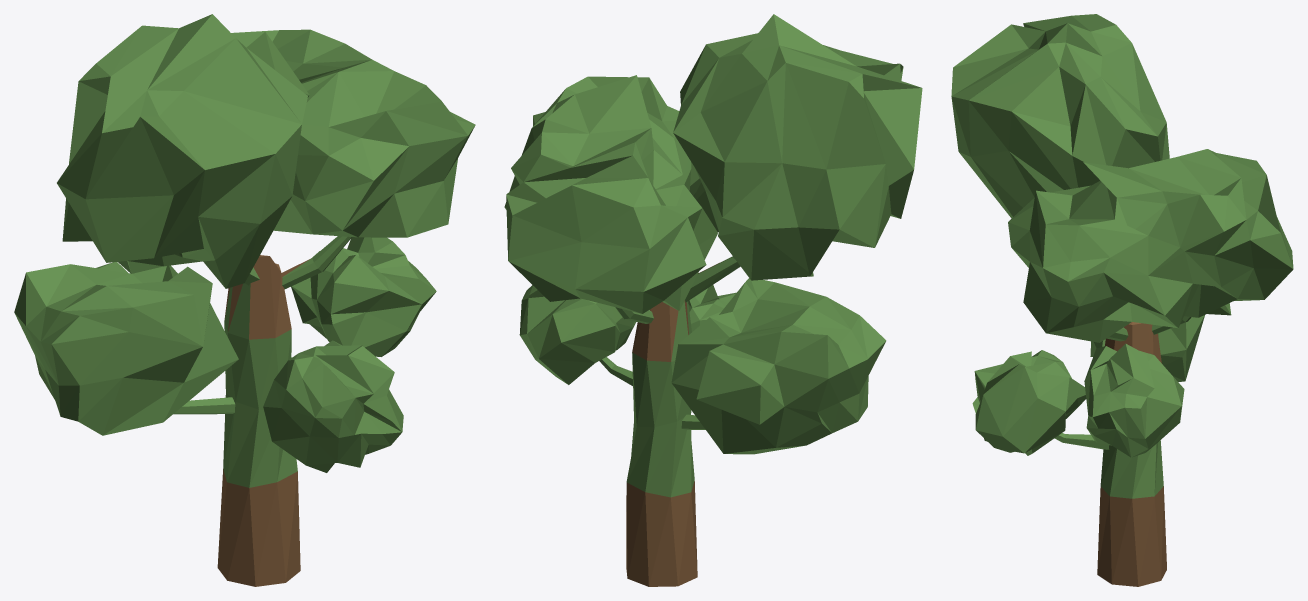
The model's file is tree3d-079.glb.
3 renders of one model, left to right at view 1: azimuth 30°, elevation 25°; view 2: azimuth 150°, elevation 25°; view 3: azimuth 270°, elevation 25°, orthographic. The views are drawn at different scales.
Visible parts, largest first — view 1: tree3d-079; view 2: tree3d-079; view 3: tree3d-079.
Boxes of the visible parts, x1=… form: tree3d-079: x1=14, y1=14, x2=475, y2=586; tree3d-079: x1=504, y1=14, x2=922, y2=586; tree3d-079: x1=951, y1=14, x2=1293, y2=586.
Size of the model in its own units: 0.7251 by 1 by 0.6032.
